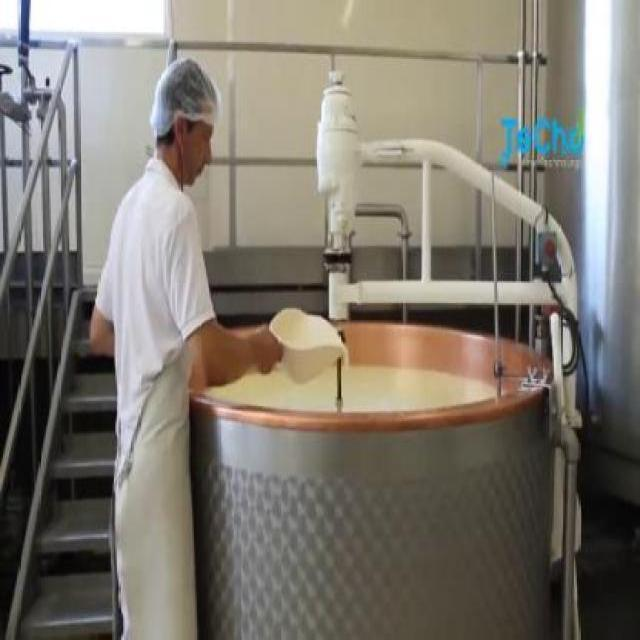bare_hand: (240, 318, 292, 392)
